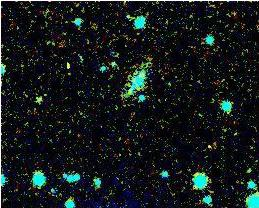star: (54, 47, 84, 77)
